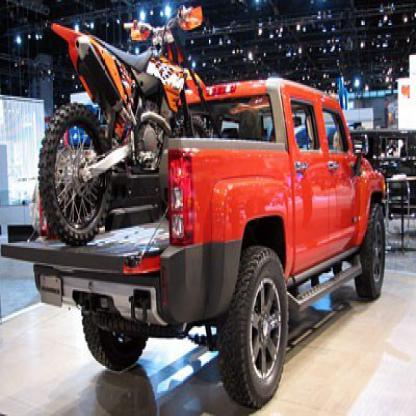Vehicle: (6, 74, 392, 410)
